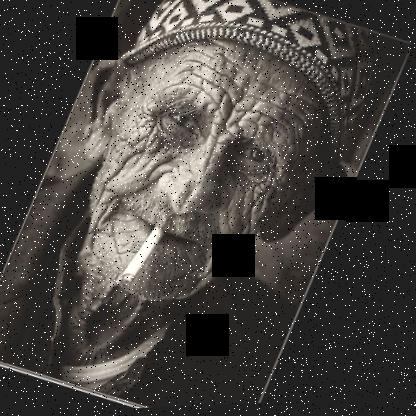Male: (15, 1, 393, 349)
